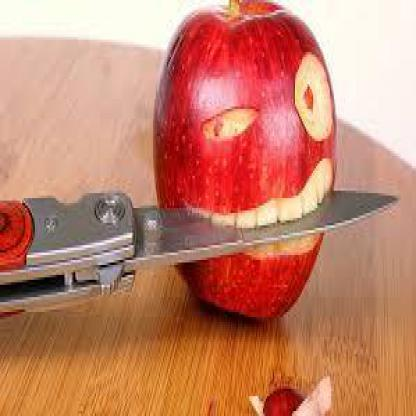apple: (152, 1, 341, 321)
